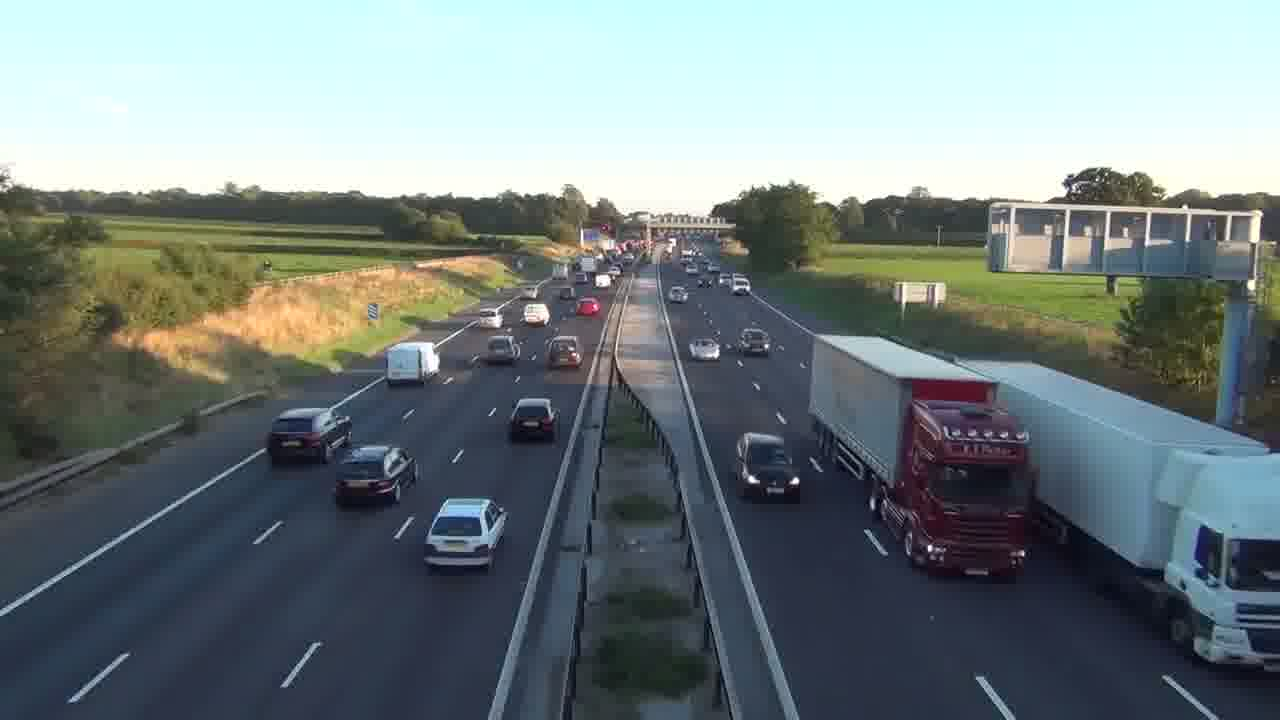car: (422, 496, 509, 571), (333, 444, 418, 506), (266, 406, 353, 464), (734, 431, 801, 503), (508, 396, 558, 442), (545, 335, 582, 369), (738, 325, 771, 357), (486, 335, 519, 364), (689, 336, 720, 361), (576, 296, 600, 318), (668, 284, 688, 302)
truck: (965, 356, 1280, 673), (805, 333, 1036, 581), (266, 406, 353, 464), (385, 342, 440, 386)
